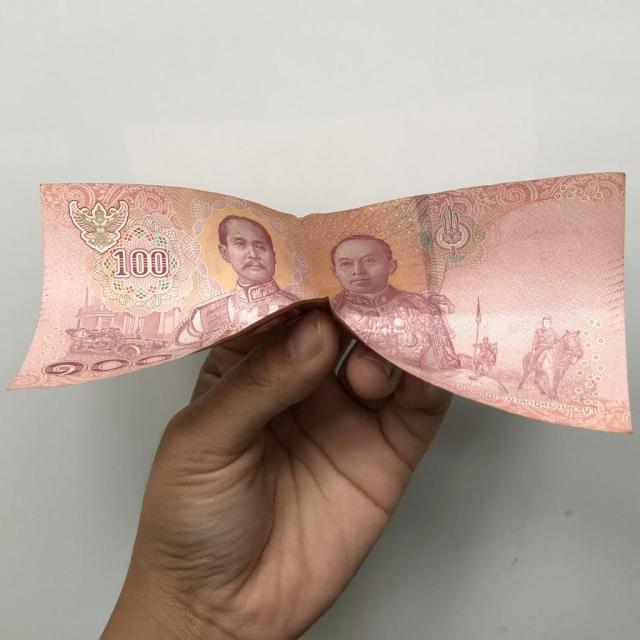THAI100: (11, 172, 631, 432)
